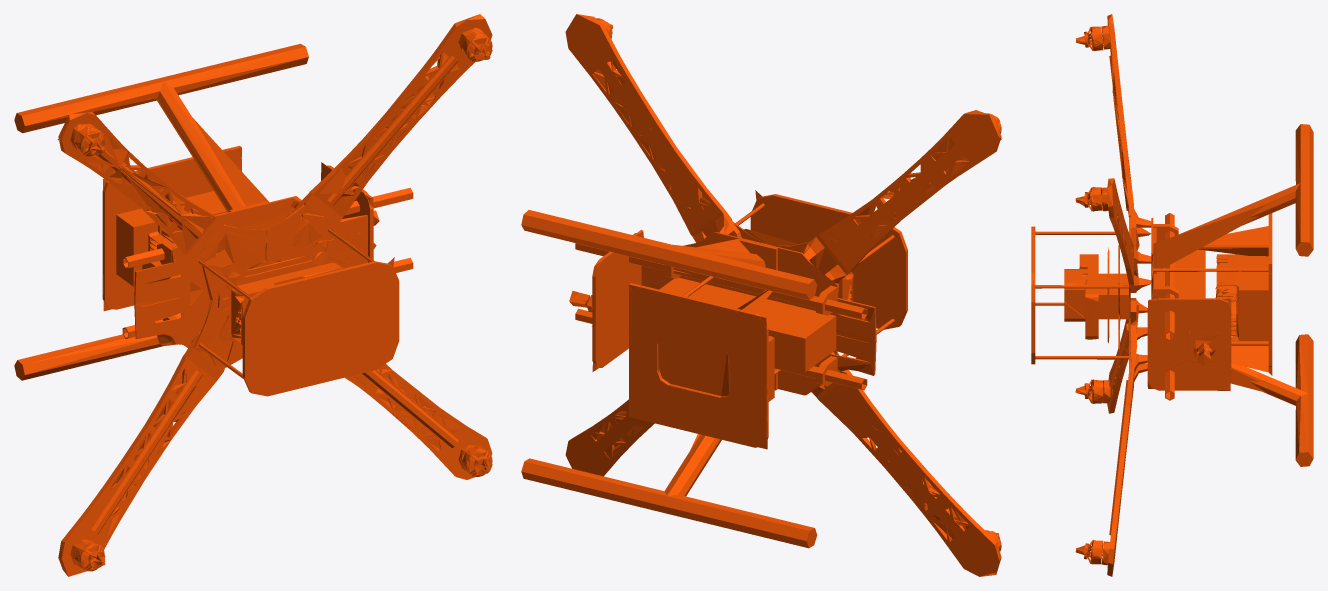
The model's file is ITM-quadcopter.dae.
3 renders of one model, left to right at view 1: azimuth 30°, elevation 25°; view 2: azimuth 150°, elevation 25°; view 3: azimuth 270°, elevation 25°, orthographic. The views are drawn at different scales.
Parts seen in each view (by area): view 1: node; view 2: node; view 3: node.
Boxes of the visible parts, left/top/right/bottom form: node: left=14, top=14, right=492, bottom=576; node: left=521, top=14, right=1002, bottom=576; node: left=1031, top=14, right=1313, bottom=576.
Size of the model in its own units: 0.3819 by 0.3886 by 0.2527.
Materials: 1 (1 with a texture image).
